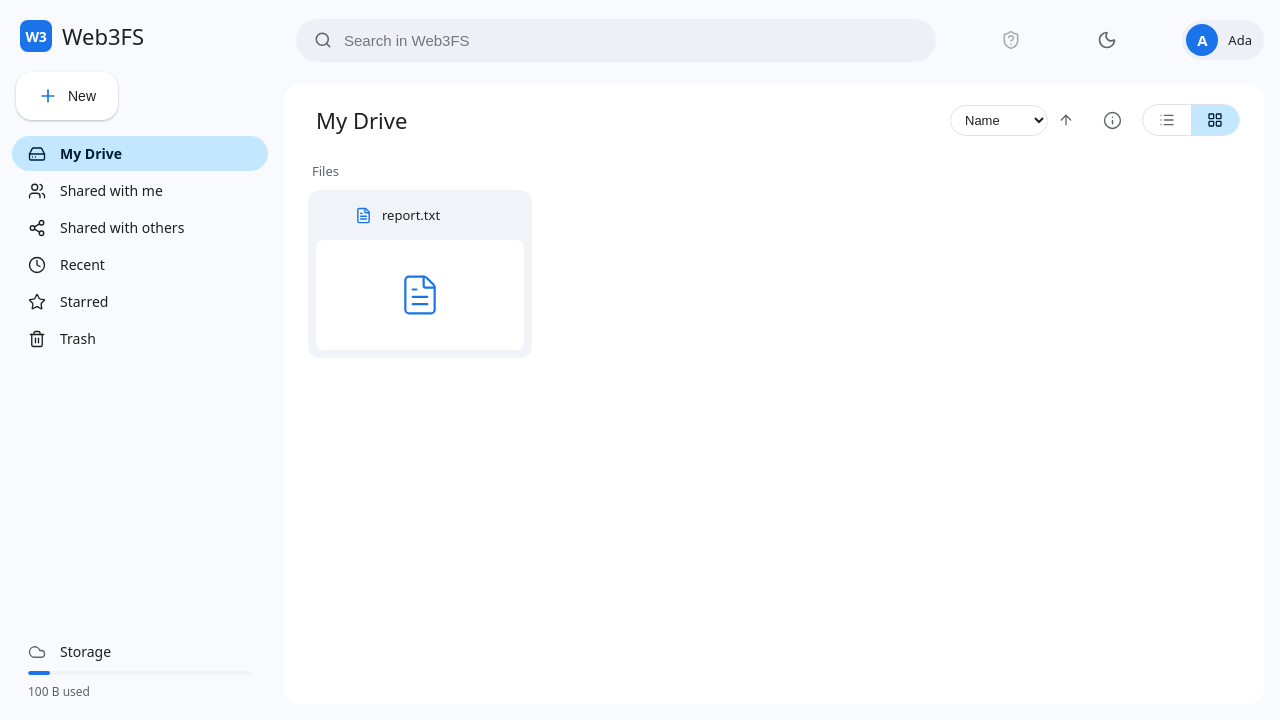
Test case: right-clicking a file opens its context menu
Right-click the element showing "report.txt" at (420, 274), box [308,190,532,358]
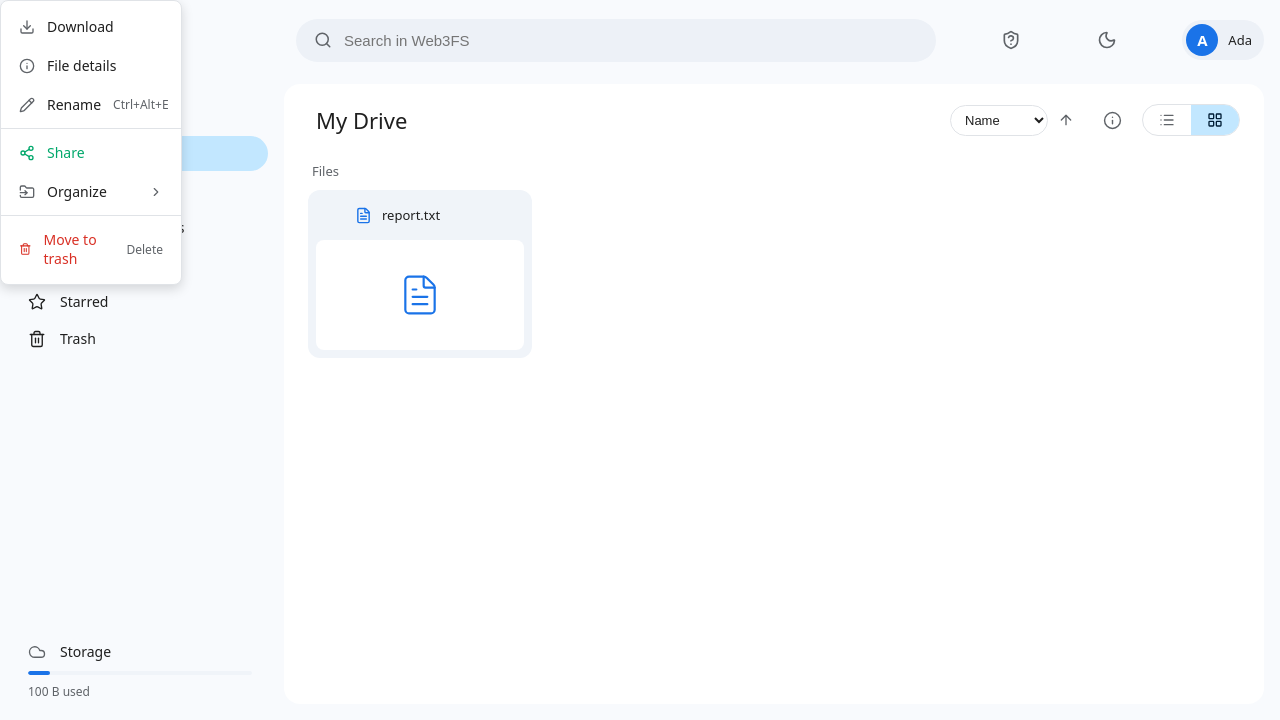
Check: the text "Download" is shown, box [19,17,114,36]
Check: the text "File details" is shown, box [19,56,116,75]
